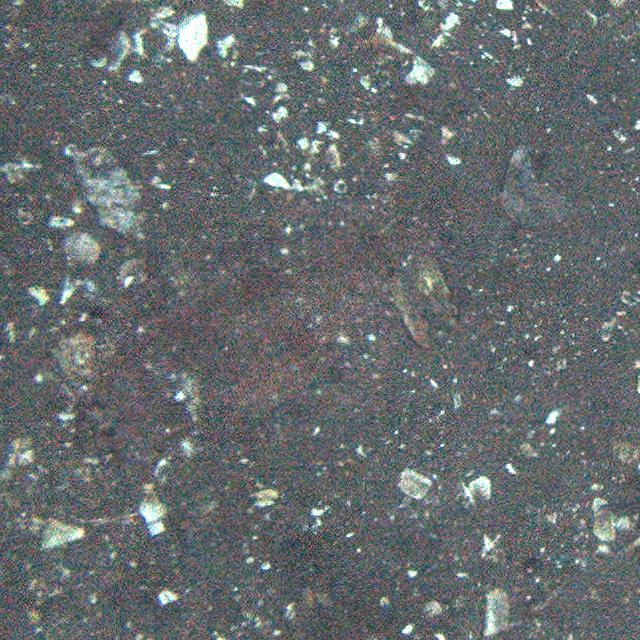flatfish: (77, 159, 432, 463)
